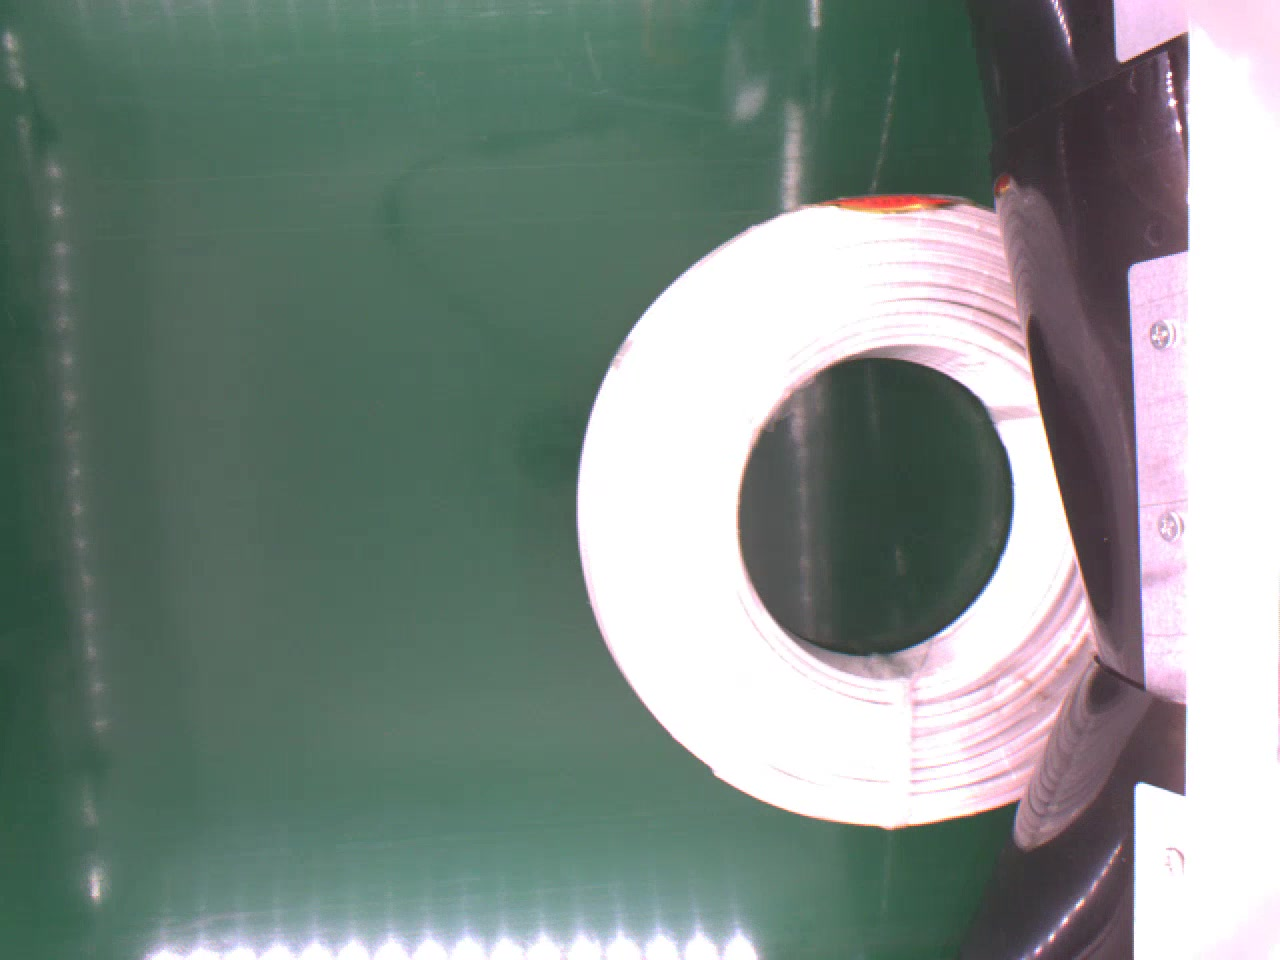white: (570, 192, 1096, 828)
